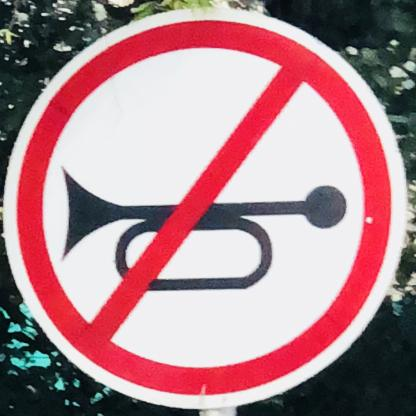No Horns: (4, 10, 409, 413)
